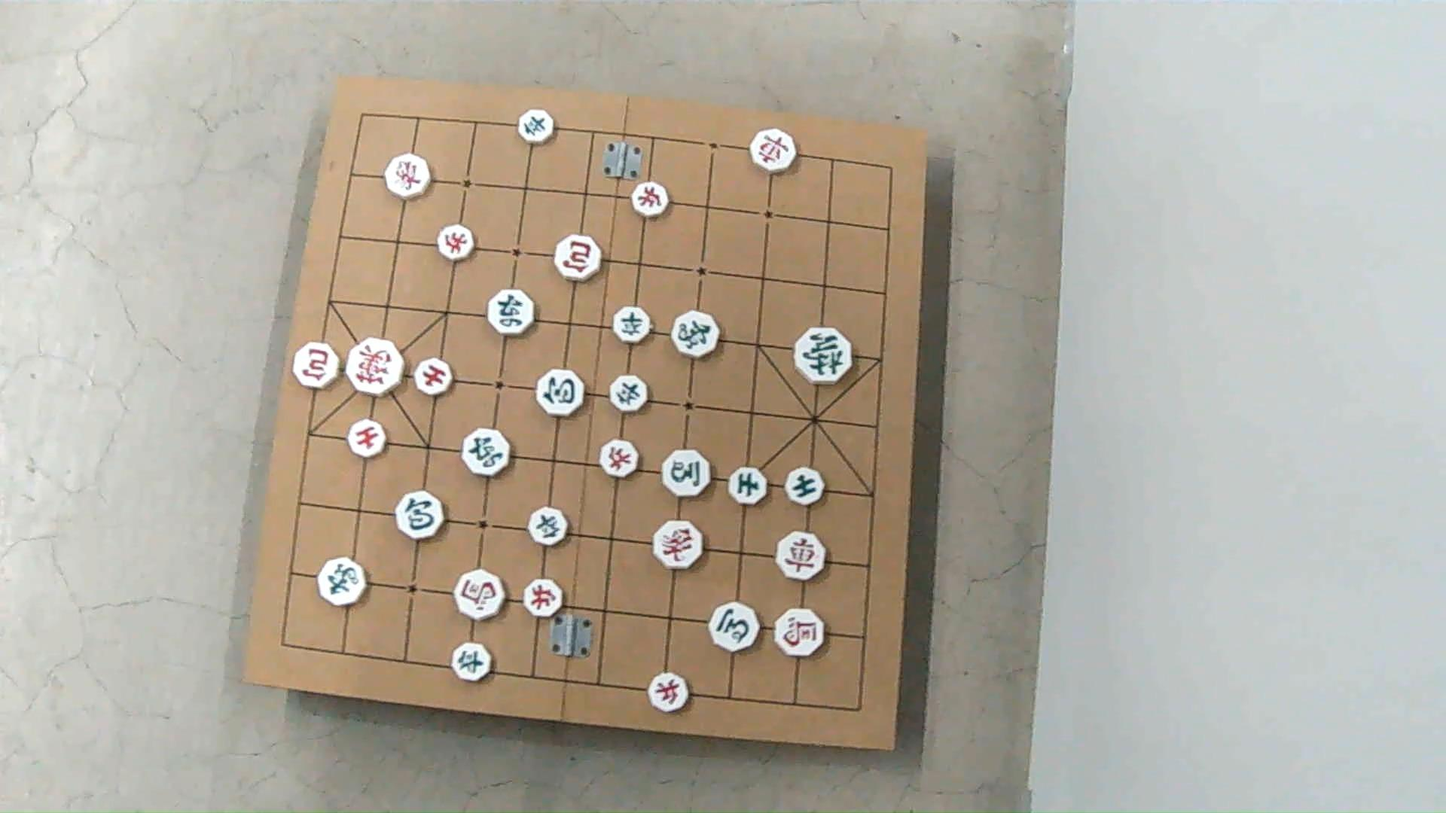cha_green: (462, 428, 511, 477), (488, 291, 534, 337)
cha_red: (777, 533, 826, 583), (749, 128, 796, 172)
jol_green: (451, 642, 491, 681), (528, 508, 567, 547), (612, 373, 650, 411), (615, 309, 652, 346), (520, 111, 556, 145)
jol_red: (648, 672, 688, 712), (599, 440, 638, 478), (525, 580, 563, 618), (435, 225, 472, 261), (633, 181, 669, 218)
ma_green: (708, 603, 758, 653), (663, 449, 712, 498)
ma_red: (456, 571, 505, 621), (773, 609, 824, 656)
po_green: (393, 492, 442, 541), (536, 370, 584, 419)
po_red: (553, 236, 599, 282), (294, 343, 341, 388)
sa_green: (786, 467, 825, 506), (728, 466, 767, 504)
sa_red: (414, 358, 453, 397), (352, 420, 389, 458)
sang_green: (319, 559, 367, 607), (673, 311, 721, 358)
sang_red: (651, 523, 700, 571), (384, 154, 430, 199)
wang_green: (794, 329, 850, 385)
wang_red: (346, 337, 402, 395)
